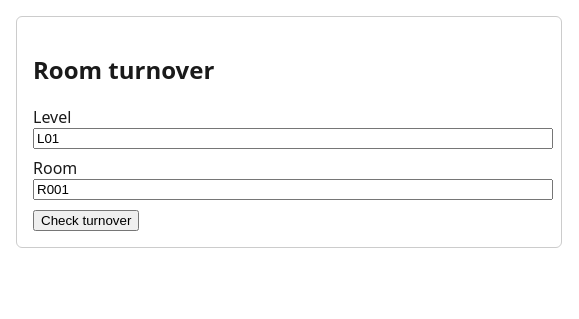
Test: TurnoverPanel › shows turnover allowed when nothing blocks it
What coordinates should you click on to do the following:
click the button "Check turnover"
I would click on:
 (86, 220)
Its box is [33,210,139,231].
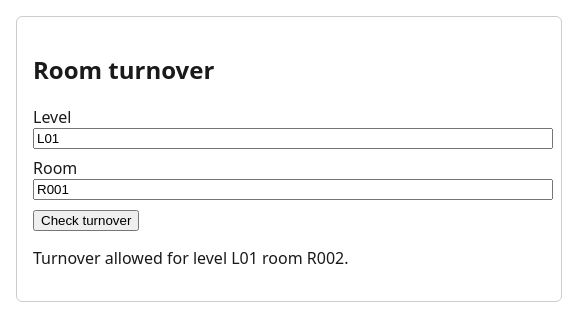
expect the text "Turnover allowed for level L01 room R002." is shown: met, box [33,247,348,269]
